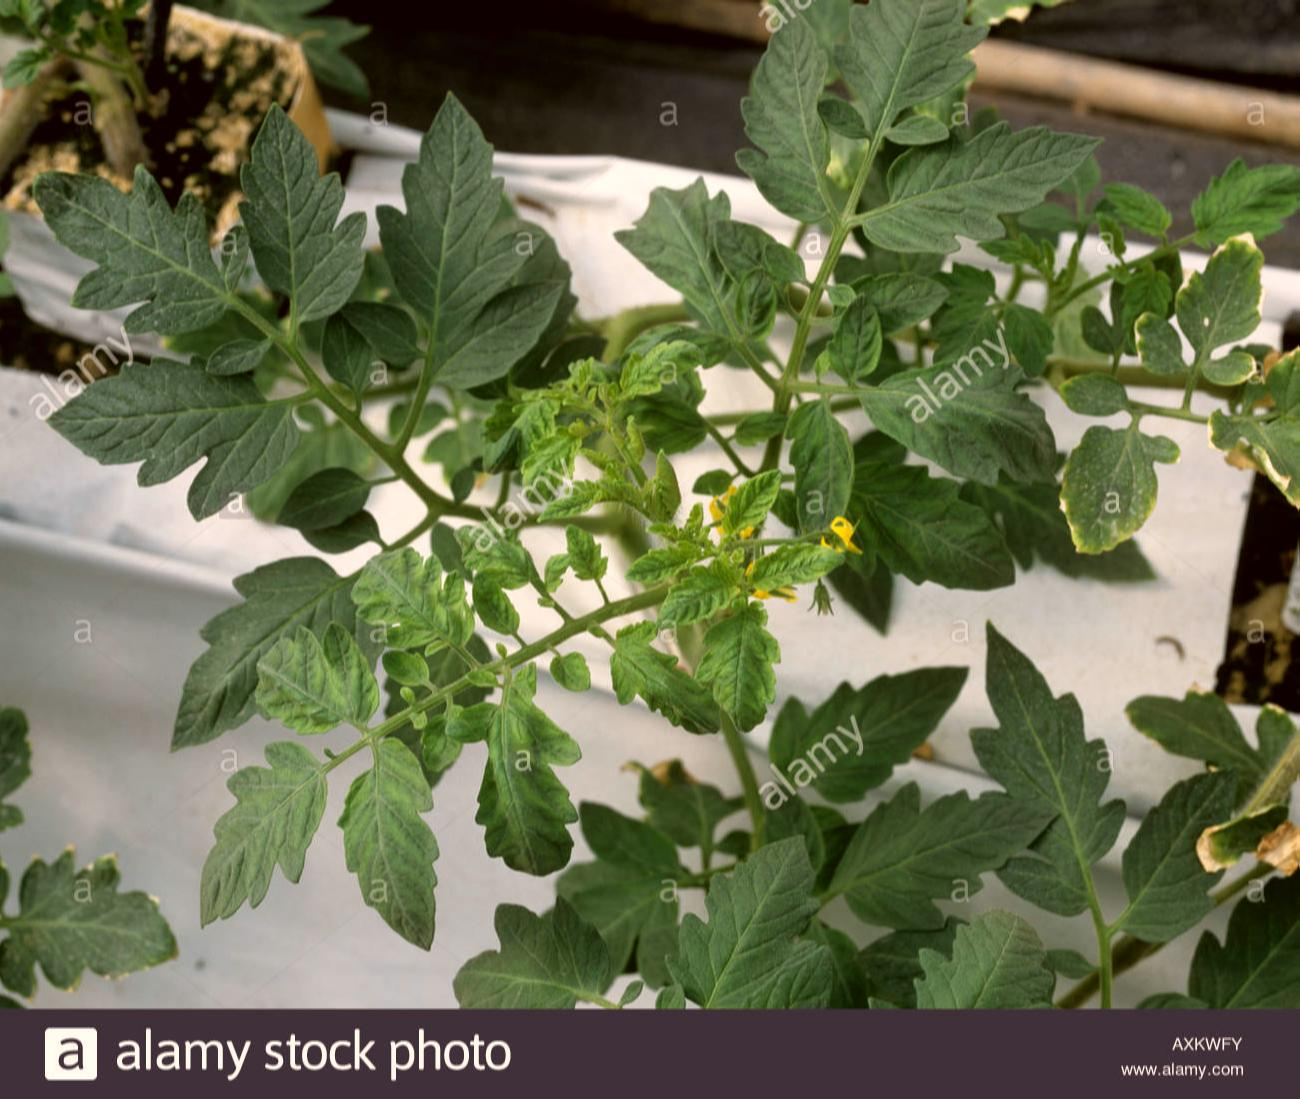Tomato leaf yellow virus: (700, 597, 790, 735), (654, 564, 761, 638), (727, 538, 855, 593)
